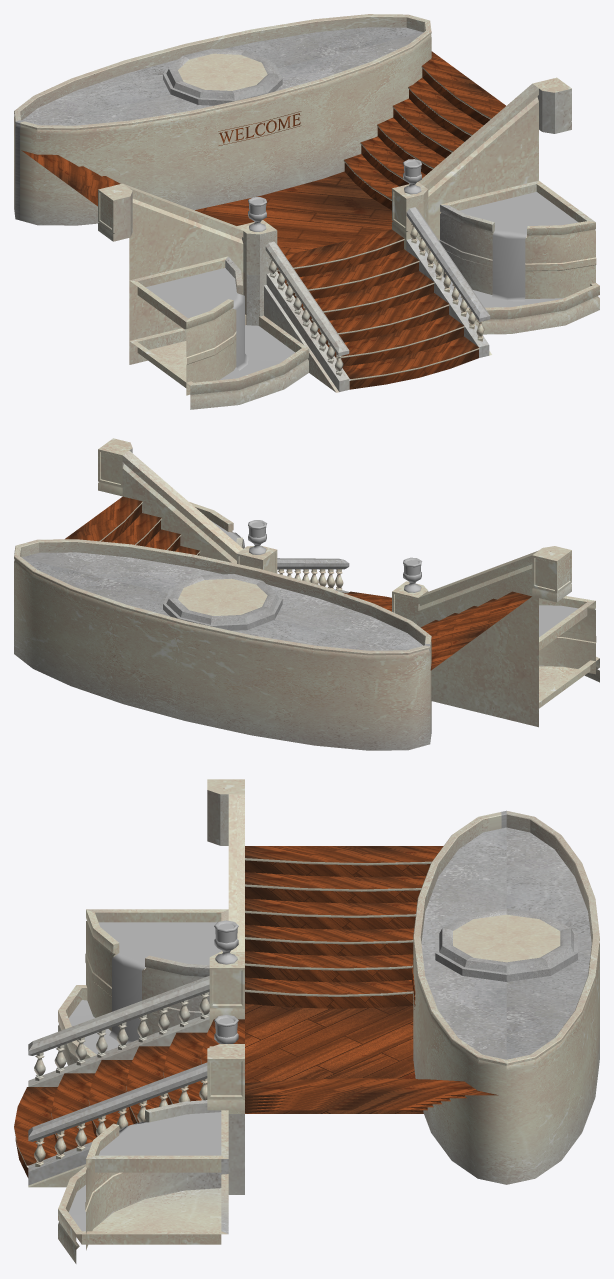
The model's file is Stairs_Hall_01_Art.fbx.
3 renders of one model, top to bottom at view 1: azimuth 30°, elevation 25°; view 2: azimuth 150°, elevation 25°; view 3: azimuth 270°, elevation 25°, orthographic. The views are drawn at different scales.
Visible parts, largest first — view 1: Stairs_Hall_01_Fountain_Water; view 2: Stairs_Hall_01_Fountain_Water; view 3: Stairs_Hall_01_Fountain_Water.
Part boxes in pixels (left/top/right/bottom): Stairs_Hall_01_Fountain_Water: left=14, top=14, right=599, bottom=409; Stairs_Hall_01_Fountain_Water: left=14, top=438, right=599, bottom=750; Stairs_Hall_01_Fountain_Water: left=14, top=779, right=599, bottom=1263.
Bounding box in the file's own units: 1770 × 652 × 1569.
